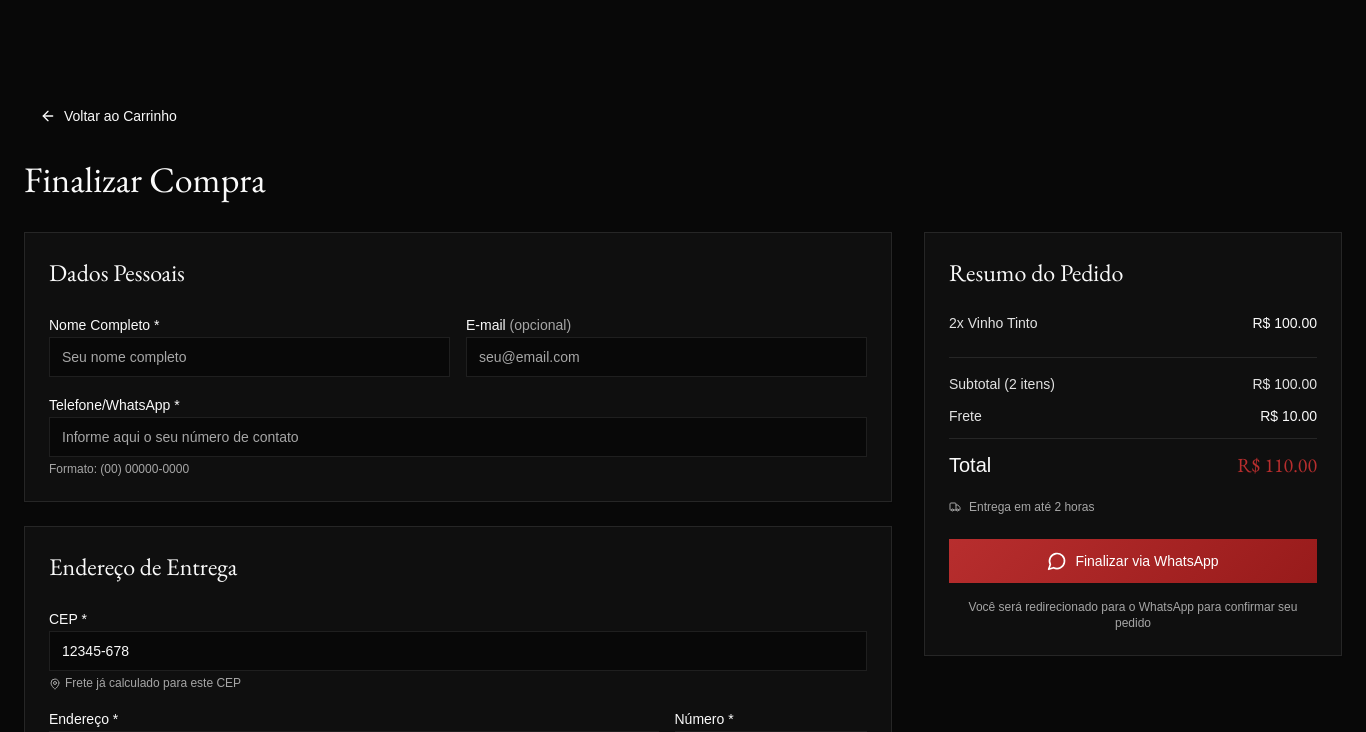
Test case: Checkout - Real-time Validation › Name Field Validation › should show green checkmark when name is valid
// Type valid name
Type "João Silva" into the field labelled "Nome Completo *".
click(250, 357); type("João Silva")  # box [49,337,450,377]
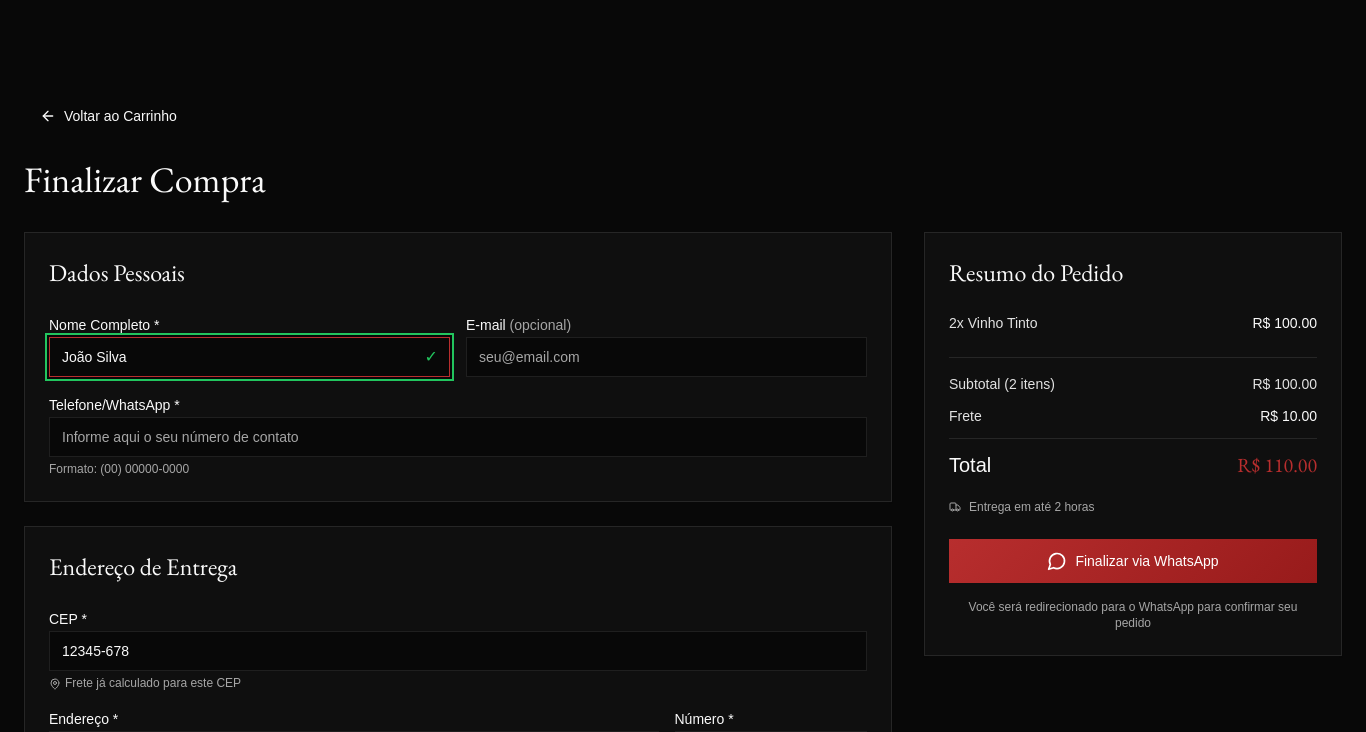
Now the text "✓" is shown, box [425,345,438,369]
